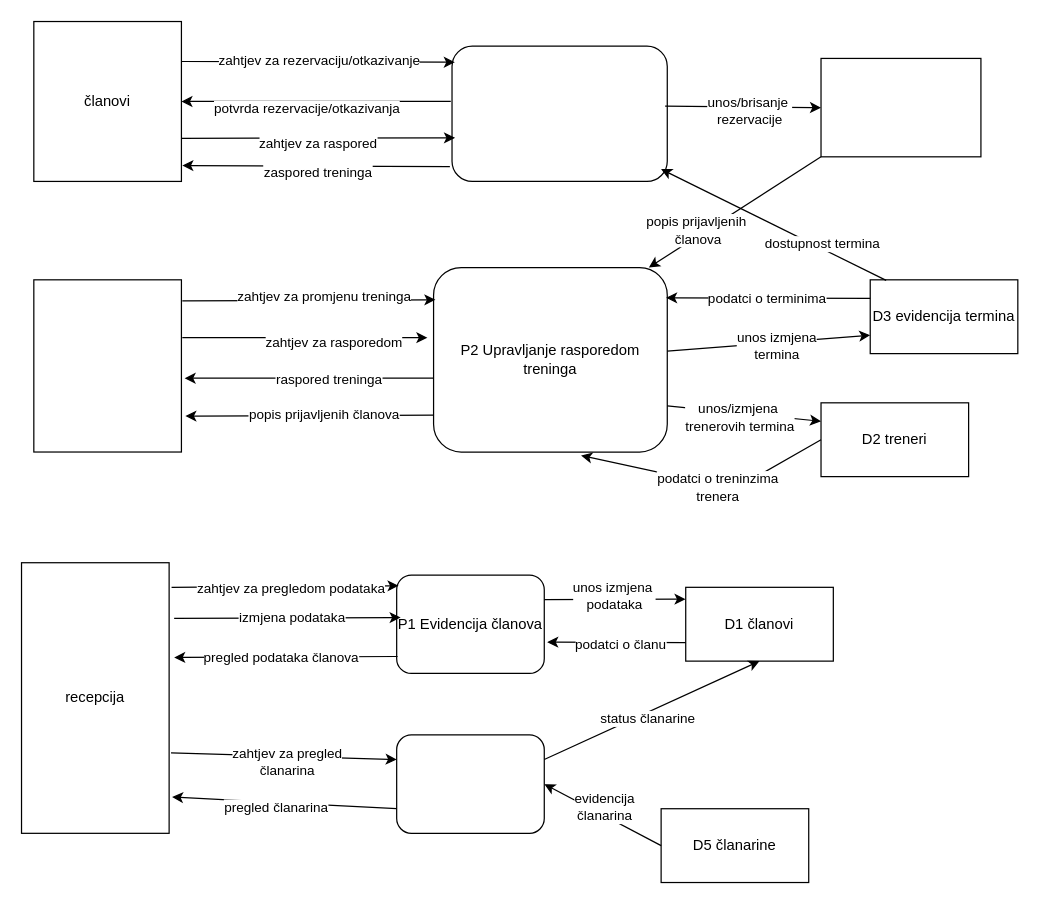
Image size: 1039x904. Some labels were removed from this diagram. Each missing label, with the centre of its shape:
"D4 evidencija rezervacija" goes at point (900, 107).
"P3 upravljanje rezervacijama termina" goes at point (559, 113).
"P4 evidencija članarina" goes at point (469, 783).
"treneri" goes at point (107, 365).
